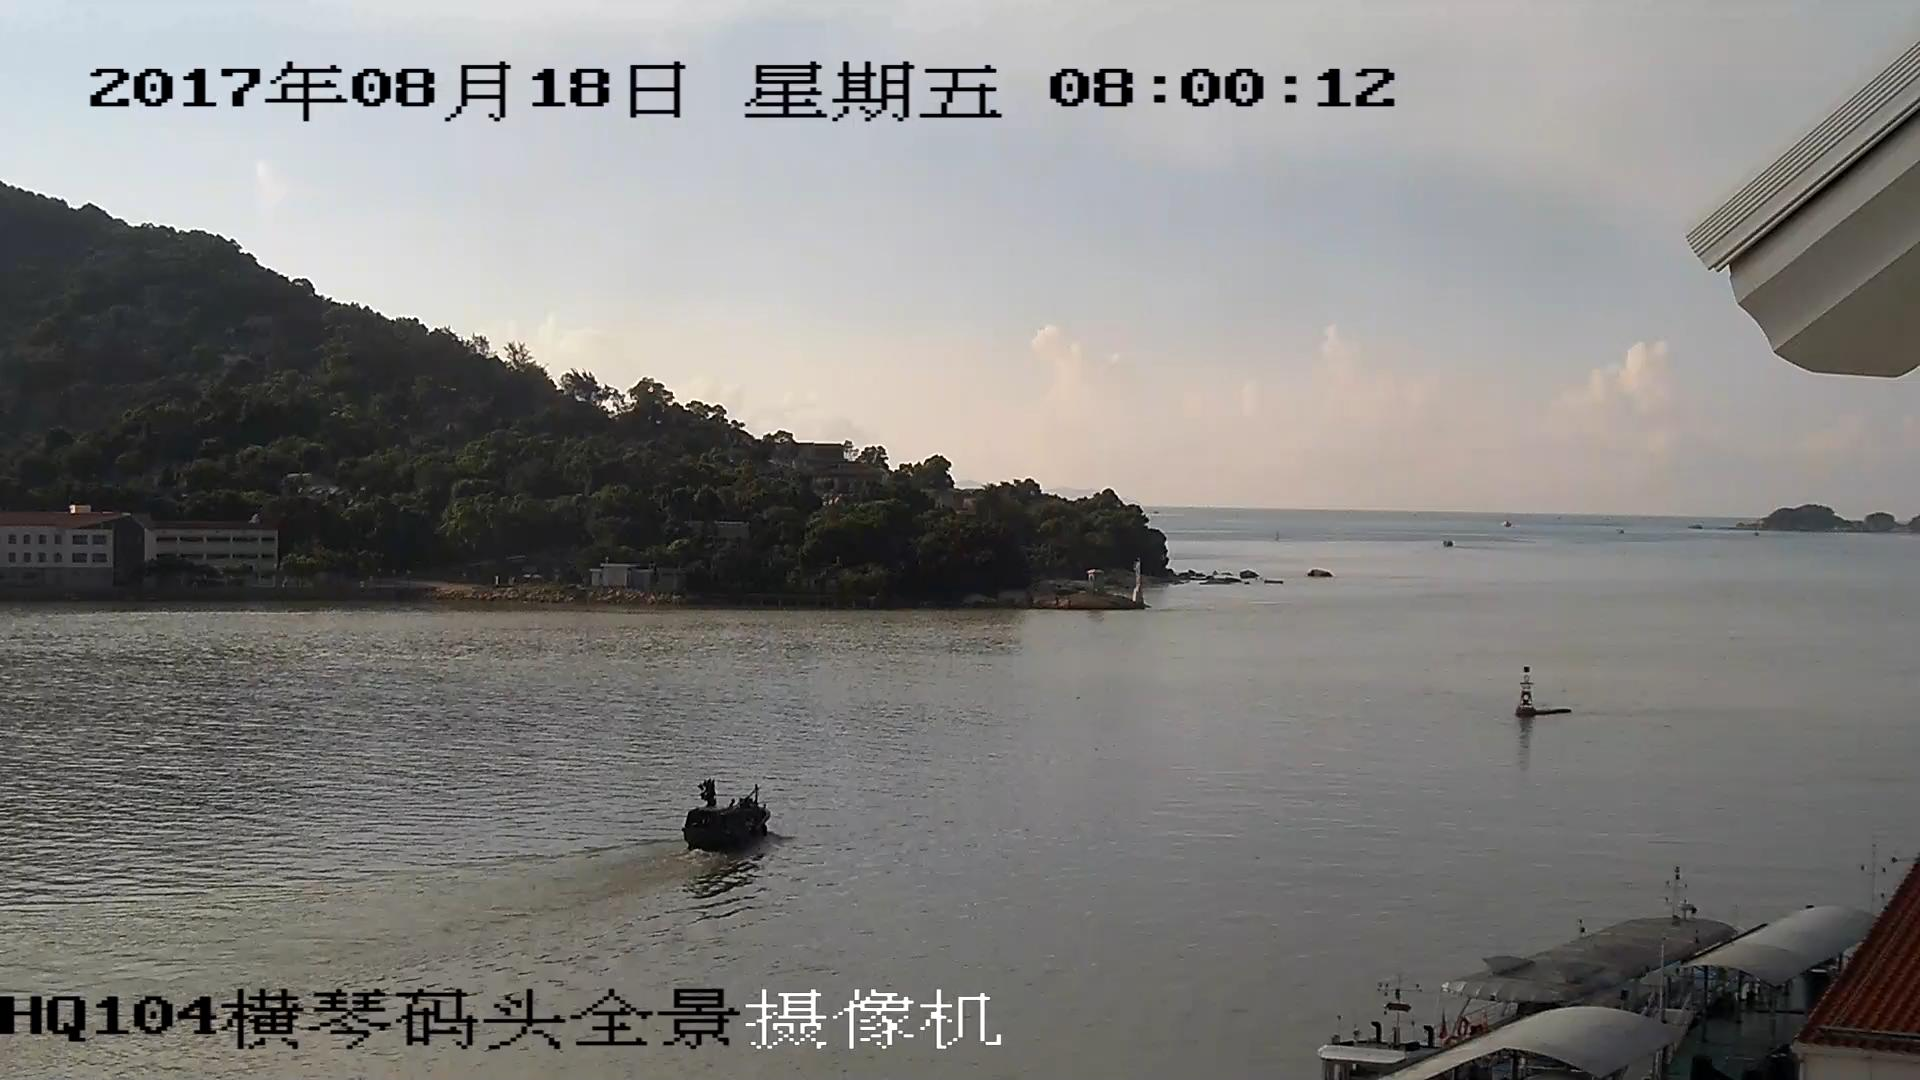fishing boat: (677, 787, 777, 850)
